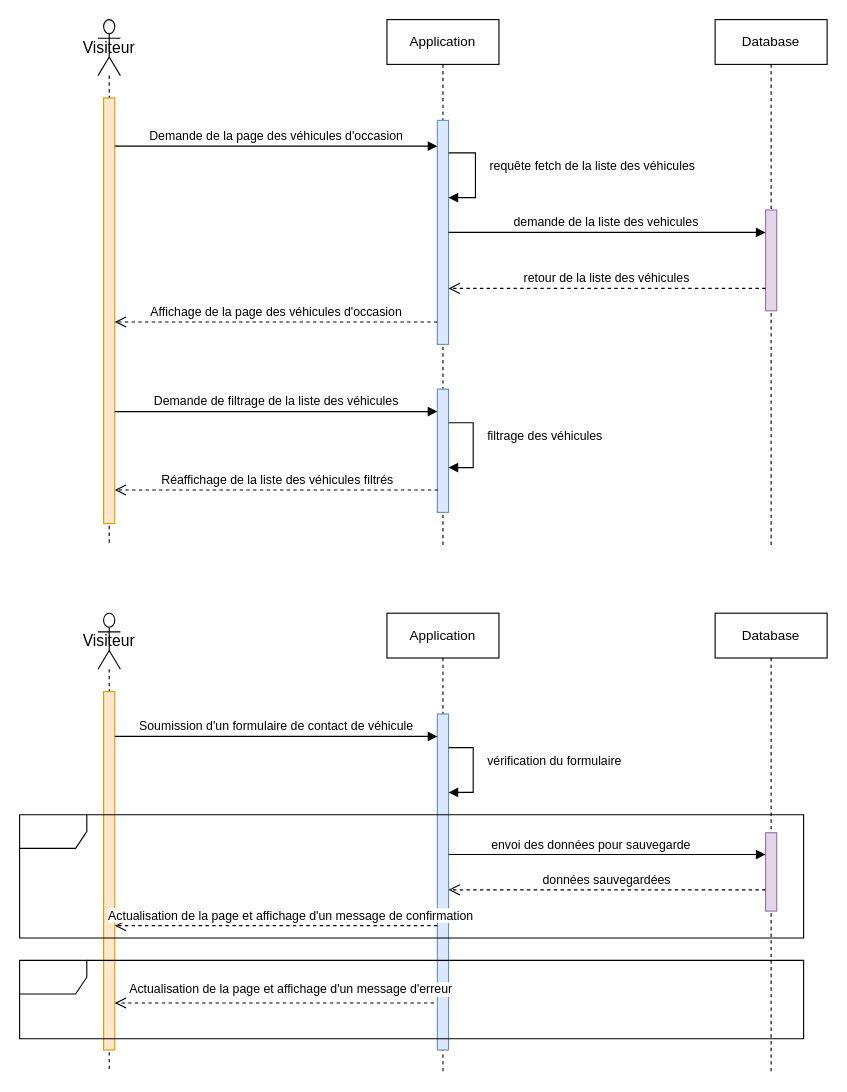
Some shapes in this 847 by 1092 pixel diagram are drawn without their labels. The centre of each missing label's shape, as x and y in pixels:
"données invalides" belongs at (x=411, y=999).
"données valides" belongs at (x=411, y=876).
